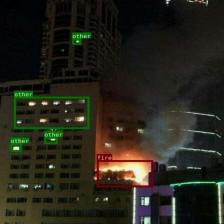fire: (97, 160, 152, 186)
